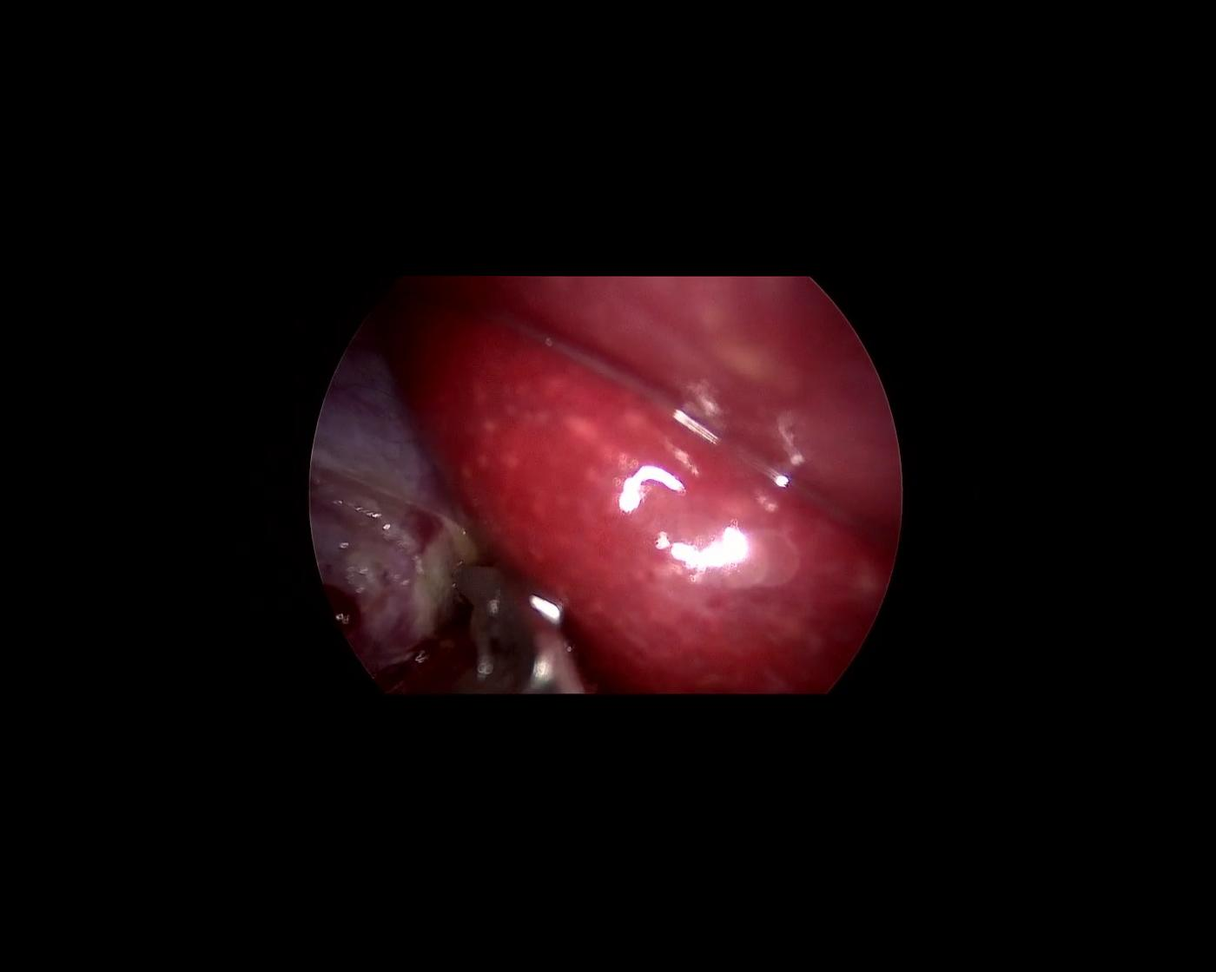Gallbladder: (240, 332, 504, 673)
Liver: (395, 275, 897, 693)
